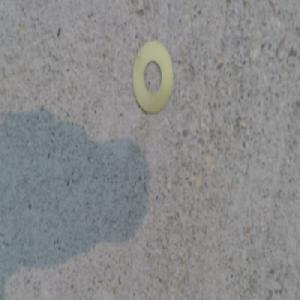Washer: (130, 40, 175, 118)
